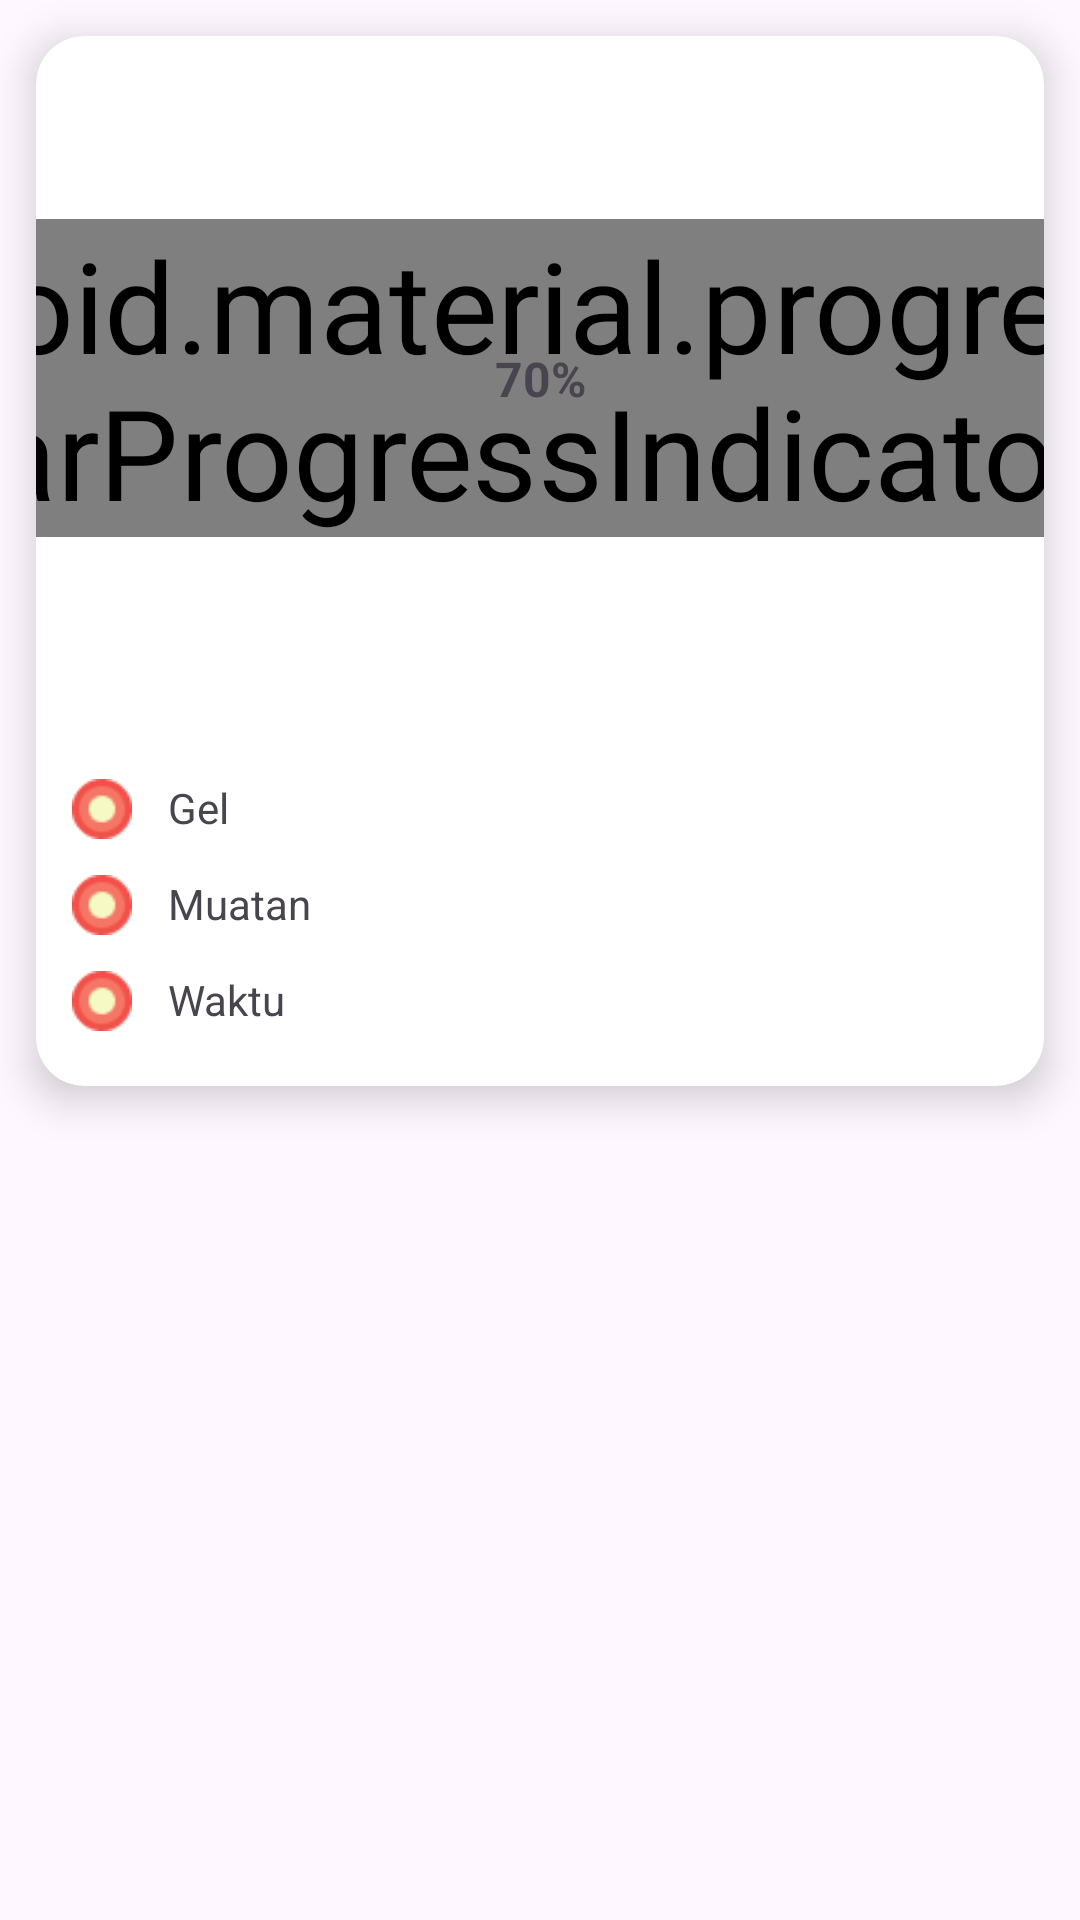

Where icons sit on this 1080*1920 app screen, as detection(x1, y1, x2, y2):
bulat: detection(72, 779, 132, 839), detection(72, 875, 132, 935), detection(72, 971, 132, 1031)
